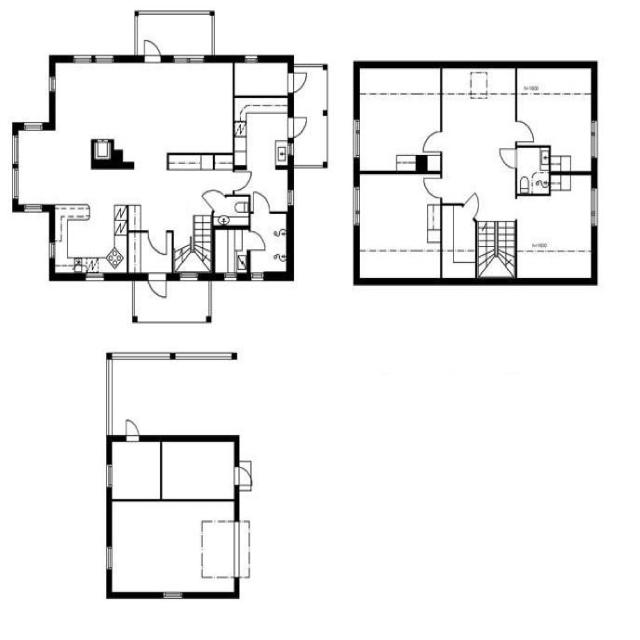door: (247, 217, 286, 265), (207, 190, 249, 223), (145, 226, 171, 258), (145, 269, 171, 301), (418, 126, 446, 155), (511, 115, 538, 145), (231, 462, 256, 489), (420, 172, 444, 200), (285, 68, 309, 94), (496, 144, 520, 170), (230, 167, 253, 192), (287, 113, 309, 139), (250, 189, 272, 215), (121, 416, 143, 442), (200, 187, 224, 210), (246, 227, 267, 253), (142, 35, 162, 62), (462, 192, 481, 219)
window: (102, 356, 119, 438), (8, 131, 22, 205), (231, 518, 246, 582), (70, 49, 118, 66), (588, 114, 601, 163), (588, 182, 600, 231), (351, 114, 363, 161), (18, 199, 48, 217), (170, 51, 208, 65), (351, 182, 362, 228), (8, 165, 21, 198), (21, 117, 47, 133), (82, 269, 108, 283), (160, 589, 186, 602), (248, 268, 268, 284), (104, 543, 115, 572), (104, 462, 115, 490), (178, 270, 201, 283), (46, 73, 59, 94), (220, 270, 239, 284), (242, 51, 261, 65), (46, 239, 58, 260), (286, 186, 297, 208), (287, 140, 297, 157)
zone: (53, 60, 235, 165), (107, 498, 238, 597), (440, 67, 517, 211), (358, 170, 443, 280), (356, 65, 442, 170), (51, 160, 128, 276), (514, 183, 595, 281), (514, 66, 595, 148), (161, 438, 236, 501), (234, 96, 290, 169), (110, 437, 162, 499), (441, 204, 476, 274), (248, 212, 288, 272), (233, 59, 290, 94), (212, 225, 250, 276), (514, 145, 551, 195), (212, 192, 248, 226)
